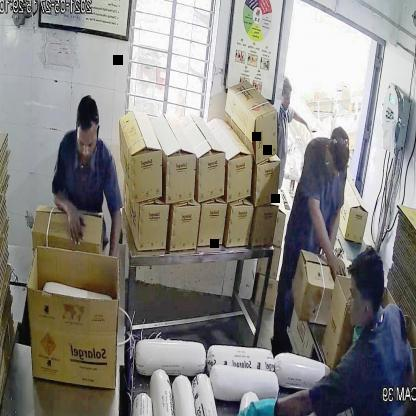no_goggles: (74, 130, 101, 155)
